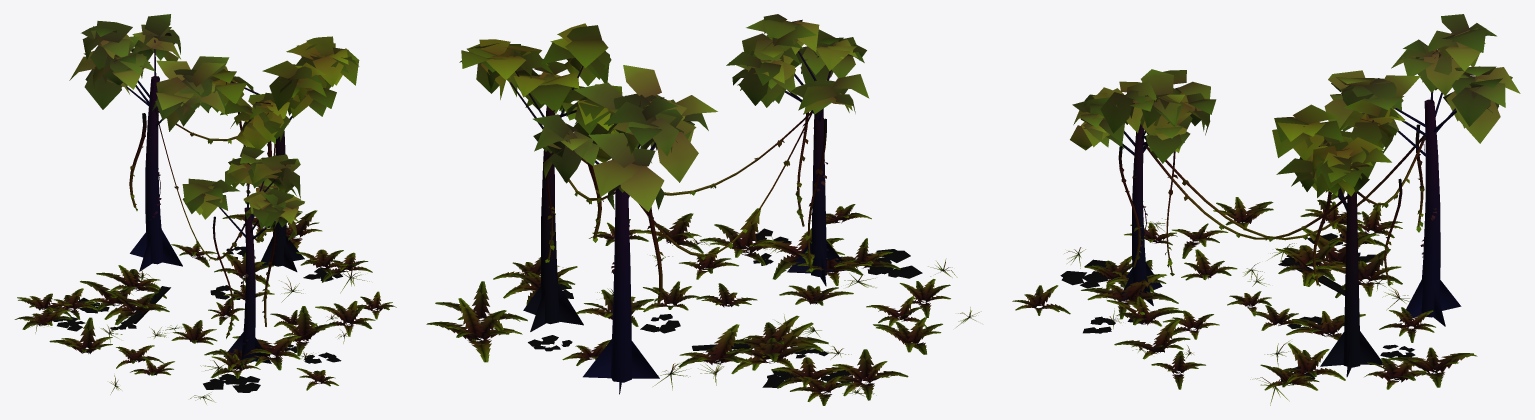
File: patch_fern_floor.glb
The picture shows the model from 3 angles, left to right: view 1: azimuth 30°, elevation 25°; view 2: azimuth 150°, elevation 25°; view 3: azimuth 270°, elevation 25°; orthographic projection. The views are drawn at different scales.
Parts seen in each view (by area): view 1: patch_fern_floor; view 2: patch_fern_floor; view 3: patch_fern_floor.
Part boxes in pixels (bbox=[...]): patch_fern_floor: bbox=[14, 14, 396, 404]; patch_fern_floor: bbox=[426, 14, 981, 405]; patch_fern_floor: bbox=[1012, 14, 1520, 405].
Size of the model in its own units: 17.49 by 11.99 by 19.42.
1 material, 1 textured.
